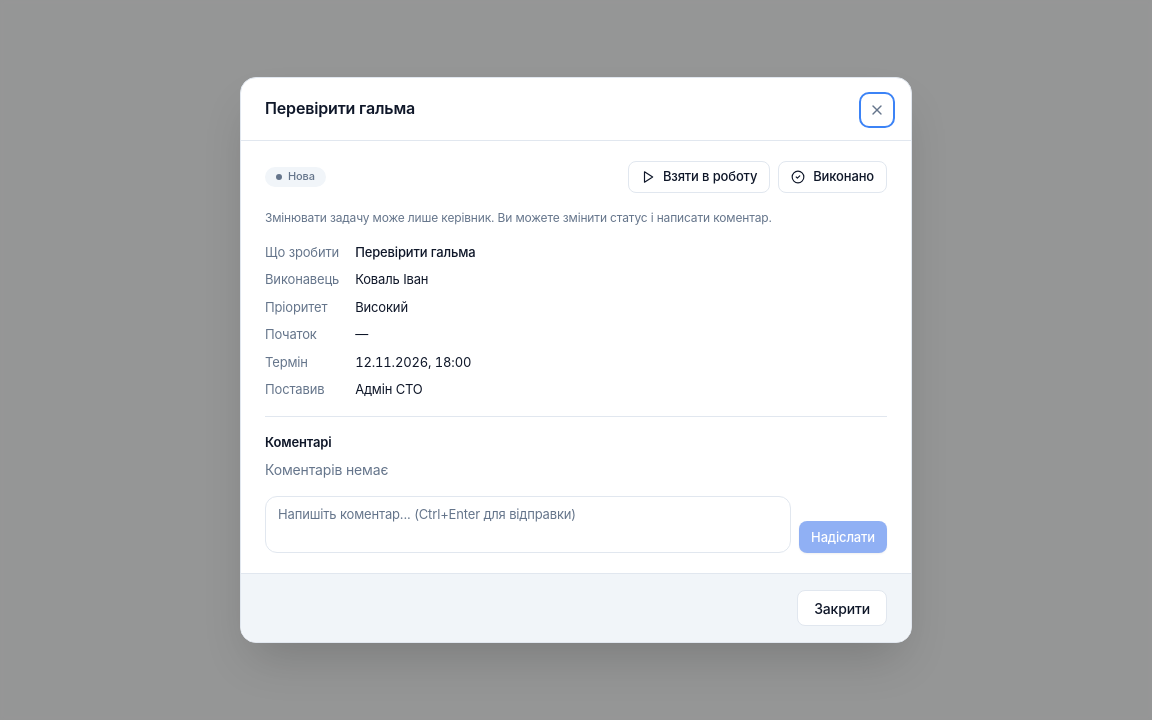
Картка задачі — виконавець › «Взяти в роботу» → POST /tasks/:id/transition { IN_PROGRESS }; статус оновлюється
Click the button "Взяти в роботу" at (699, 177), box [628,161,770,193]
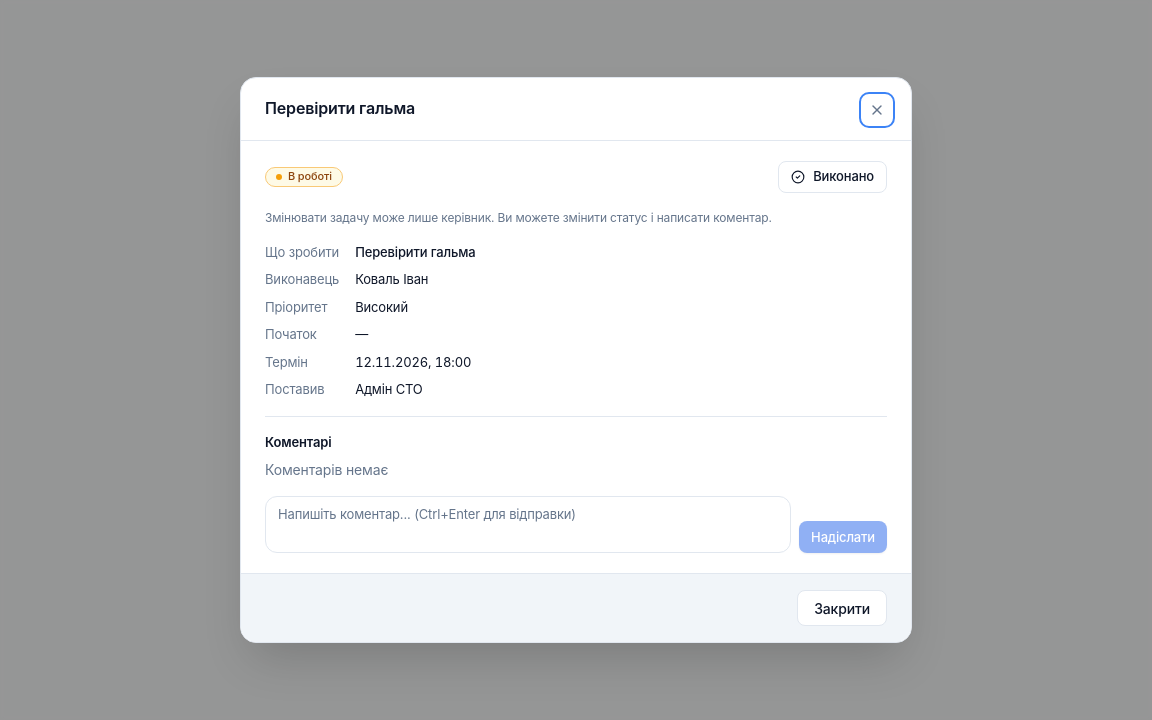
Check: the text "В роботі" is shown, box [265,167,343,187]
